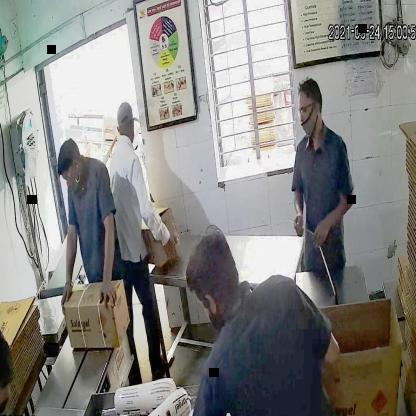goggles: (297, 102, 322, 118)
